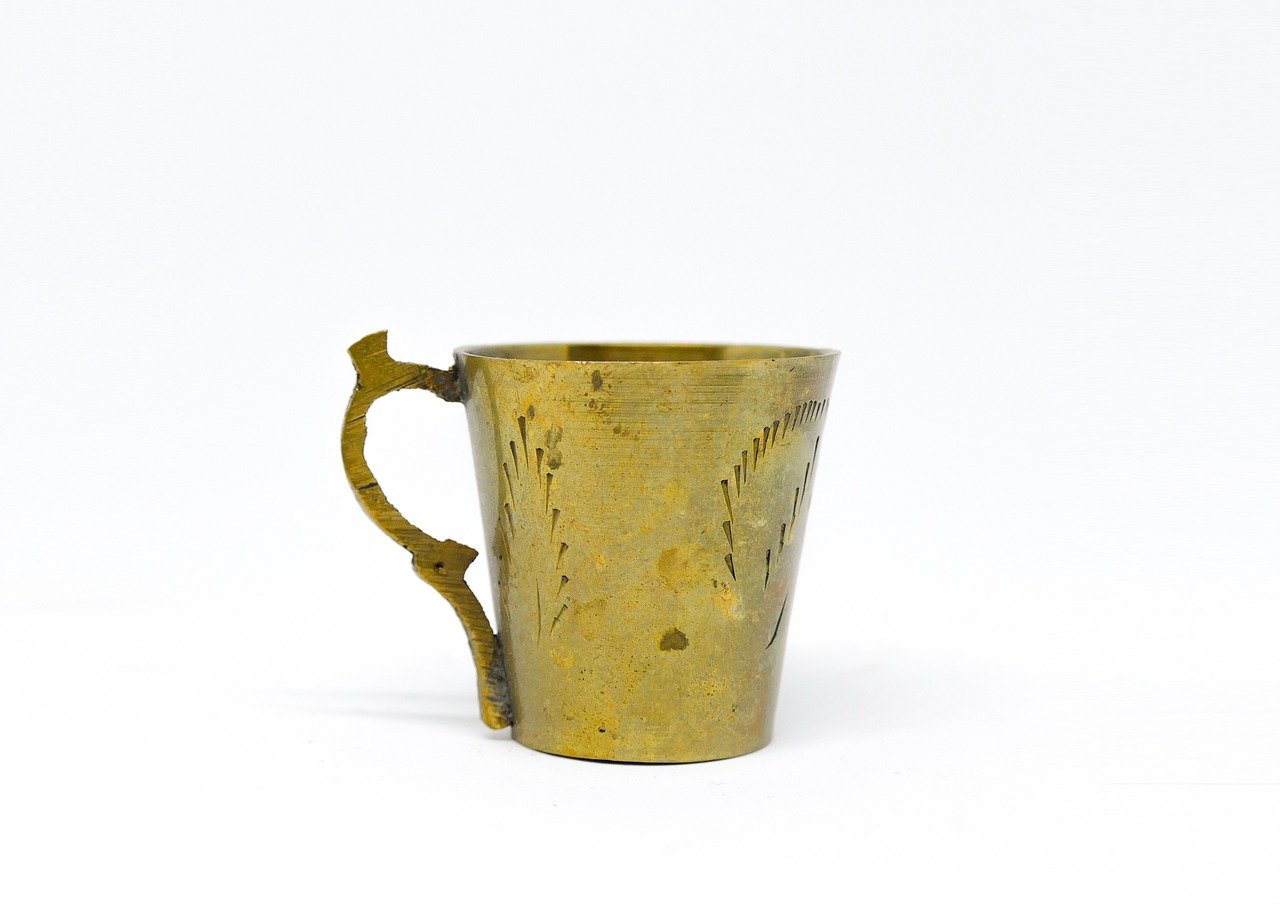mug: (301, 312, 866, 806)
